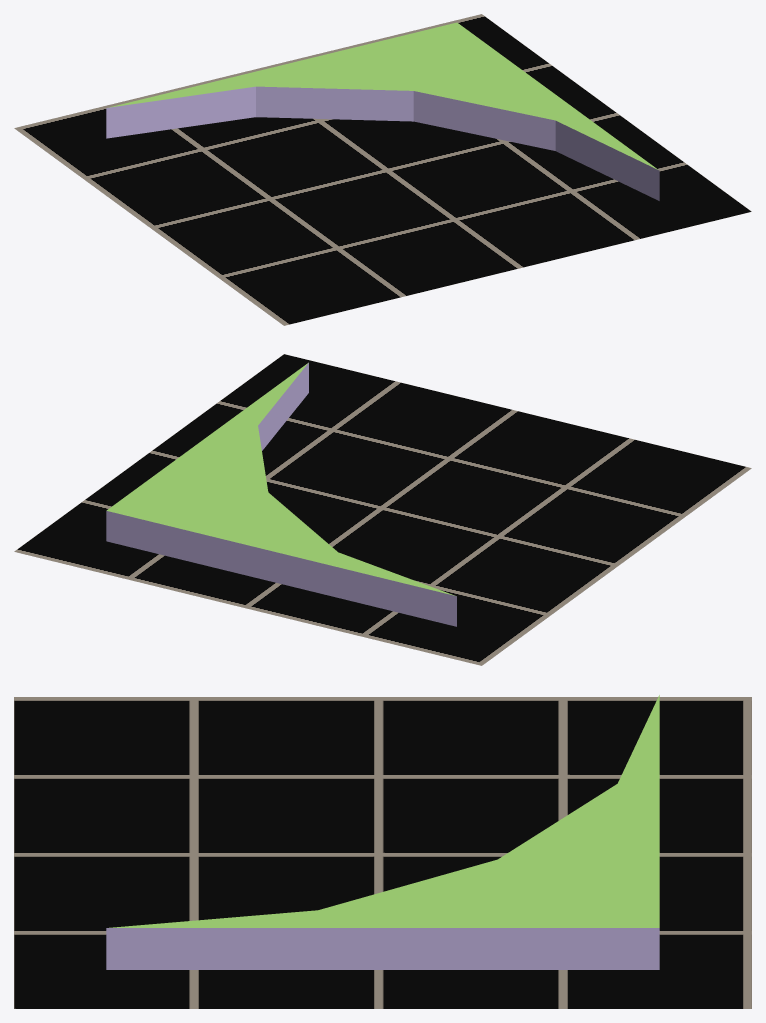
The model's file is Tiered_Grass_Curve_Inner_3x3.glb.
The picture shows the model from 3 angles, top to bottom: view 1: azimuth 30°, elevation 25°; view 2: azimuth 150°, elevation 25°; view 3: azimuth 270°, elevation 25°; orthographic projection. The views are drawn at different scales.
Visible parts, largest first — view 1: Floor, Tiered_Grass_Curve_Inner_3x3; view 2: Floor, Tiered_Grass_Curve_Inner_3x3; view 3: Floor, Tiered_Grass_Curve_Inner_3x3.
Boxes of the visible parts, bbox=[...] form: Floor: bbox=[14, 14, 751, 325]; Tiered_Grass_Curve_Inner_3x3: bbox=[106, 22, 659, 200]; Floor: bbox=[14, 354, 751, 665]; Tiered_Grass_Curve_Inner_3x3: bbox=[106, 362, 456, 626]; Floor: bbox=[14, 697, 751, 1008]; Tiered_Grass_Curve_Inner_3x3: bbox=[106, 695, 659, 969].
Size of the model in its own units: 400 by 25 by 400.
Materials: 4 (1 with a texture image).
